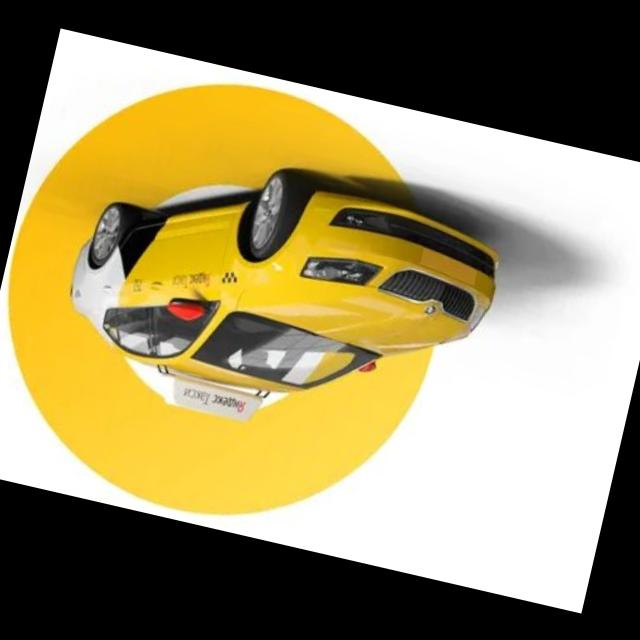taxi: (49, 129, 513, 475)
